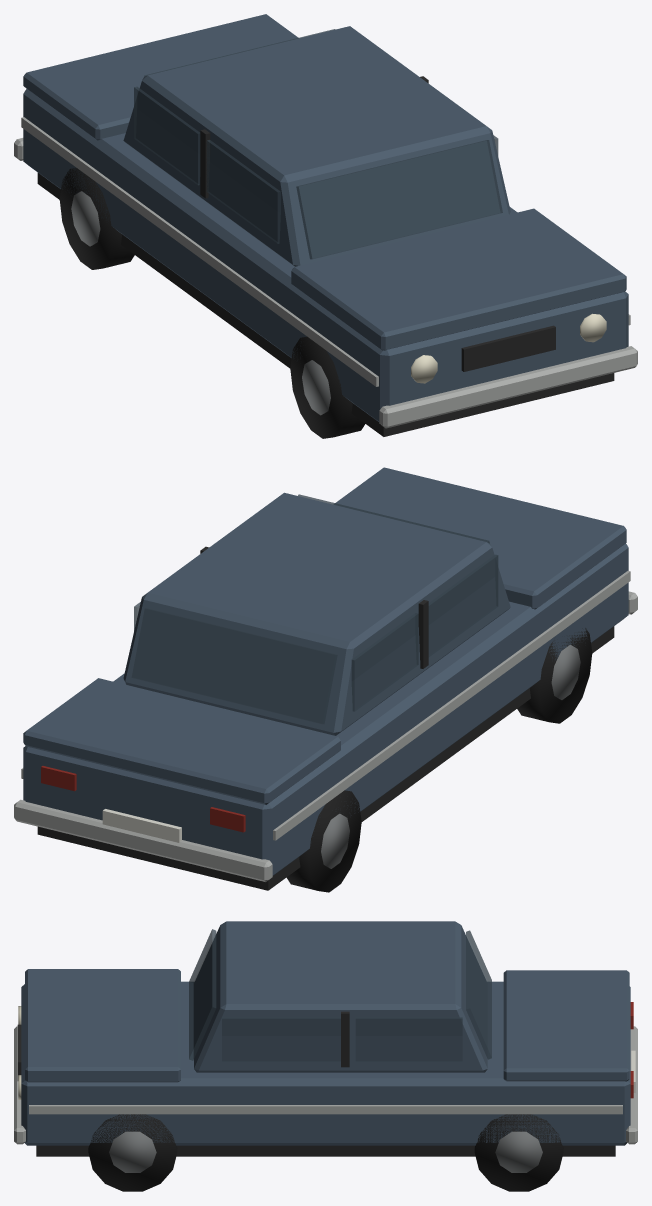
File: car_blue.glb
3 views of the same model, one above another, from view 1: azimuth 30°, elevation 25°; view 2: azimuth 150°, elevation 25°; view 3: azimuth 270°, elevation 25° (orthographic). The views are drawn at different scales.
Parts seen in each view (by area): view 1: Car; view 2: Car; view 3: Car.
Boxes of the visible parts, x1,y1,x2,y2 form: Car: (14,14,637,438); Car: (14,467,637,892); Car: (14,921,637,1191).
Bounding box in the file's own units: 1.66 × 1.32 × 4.2.
